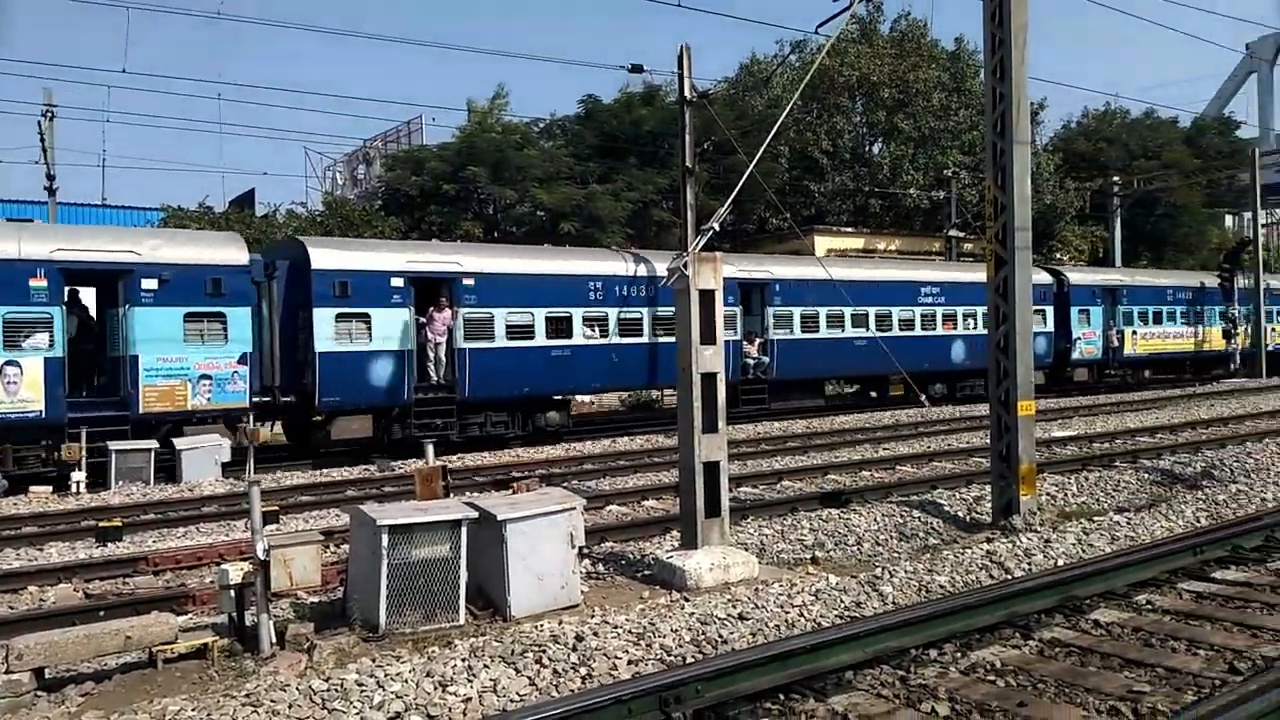Boogie: (609, 278, 662, 303)
Car Type: (909, 280, 961, 316)
